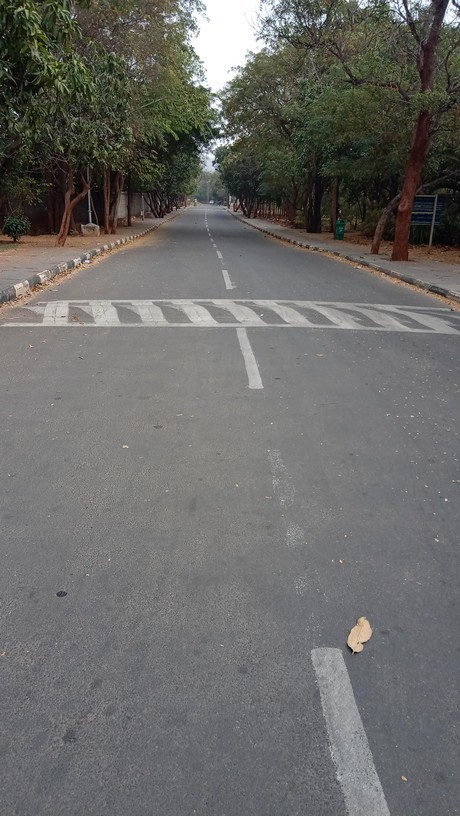bump: (1, 298, 460, 329)
